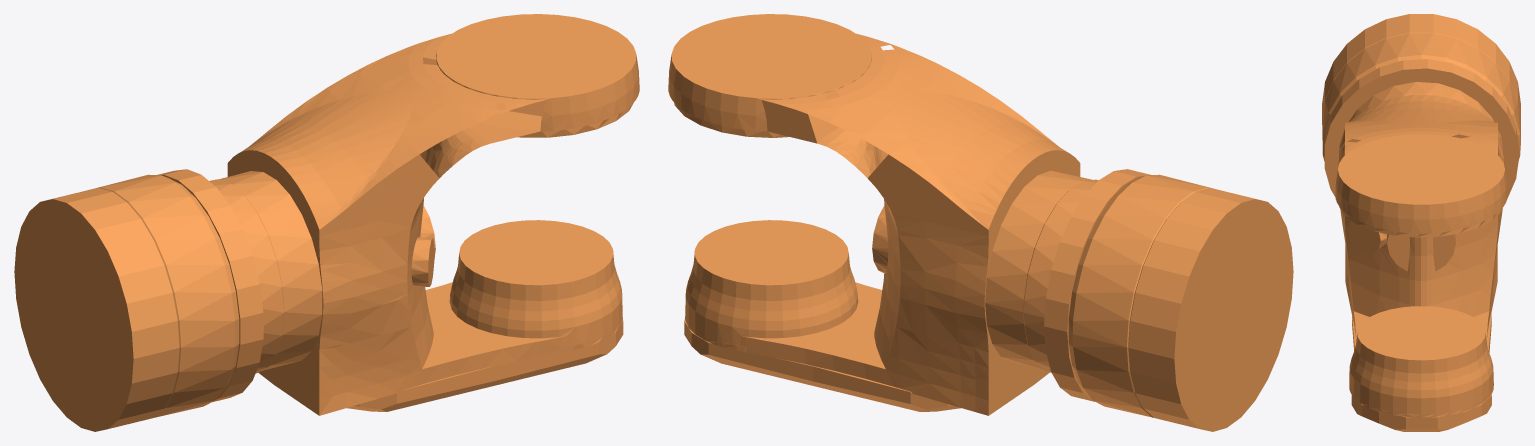
3 renders of one model, left to right at view 1: azimuth 30°, elevation 25°; view 2: azimuth 150°, elevation 25°; view 3: azimuth 270°, elevation 25°, orthographic. The views are drawn at different scales.
Parts seen in each view (by area): view 1: /SketchUp/instance_0/ID4_007-mesh/0, /SketchUp/instance_0_003/ID24_005-mesh/0, /SketchUp/instance_0_001/ID12_006-mesh/0, /SketchUp/instance_0_002/ID18_006-mesh/0; view 2: /SketchUp/instance_0/ID4_007-mesh/0, /SketchUp/instance_0_003/ID24_005-mesh/0, /SketchUp/instance_0_001/ID12_006-mesh/0, /SketchUp/instance_0_002/ID18_006-mesh/0; view 3: /SketchUp/instance_0/ID4_007-mesh/0, /SketchUp/instance_0_003/ID24_005-mesh/0, /SketchUp/instance_0_002/ID18_006-mesh/0, /SketchUp/instance_0_001/ID12_006-mesh/0.
Part boxes in pixels (left/top/right/bottom): /SketchUp/instance_0/ID4_007-mesh/0: left=227, top=14, right=639, bottom=415; /SketchUp/instance_0_003/ID24_005-mesh/0: left=14, top=174, right=239, bottom=431; /SketchUp/instance_0_001/ID12_006-mesh/0: left=209, top=171, right=322, bottom=373; /SketchUp/instance_0_002/ID18_006-mesh/0: left=157, top=169, right=263, bottom=402; /SketchUp/instance_0/ID4_007-mesh/0: left=668, top=14, right=1080, bottom=415; /SketchUp/instance_0_003/ID24_005-mesh/0: left=1068, top=174, right=1293, bottom=431; /SketchUp/instance_0_001/ID12_006-mesh/0: left=985, top=170, right=1098, bottom=372; /SketchUp/instance_0_002/ID18_006-mesh/0: left=1044, top=169, right=1150, bottom=401; /SketchUp/instance_0/ID4_007-mesh/0: left=1335, top=94, right=1507, bottom=431; /SketchUp/instance_0_003/ID24_005-mesh/0: left=1322, top=14, right=1520, bottom=161; /SketchUp/instance_0_002/ID18_006-mesh/0: left=1324, top=59, right=1519, bottom=198; /SketchUp/instance_0_001/ID12_006-mesh/0: left=1338, top=82, right=1504, bottom=164.
Bounding box in the file's own units: 0.647 × 0.3372 × 0.242.
